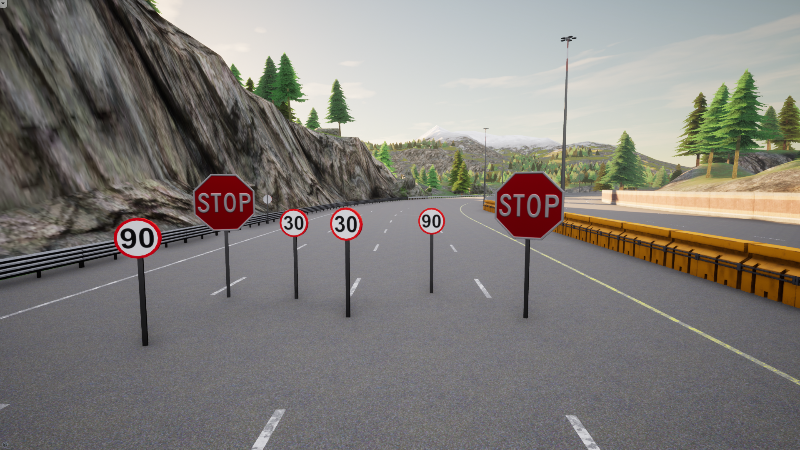fast: (114, 218, 162, 260), (418, 208, 445, 235)
slow: (329, 207, 363, 241), (280, 209, 308, 237)
stop: (495, 172, 565, 240), (193, 174, 255, 230)
